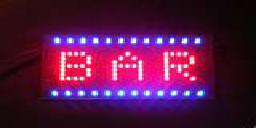LED: (48, 35, 212, 98)
